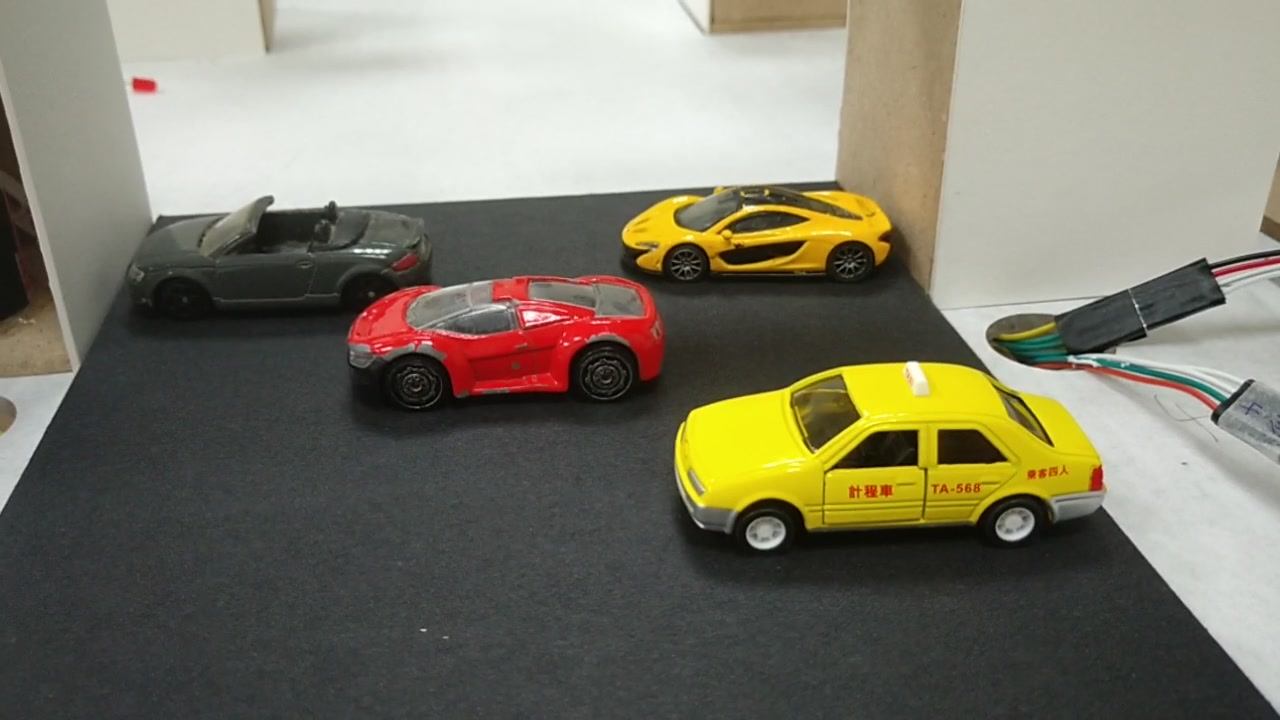car: (669, 365, 1113, 550), (356, 275, 661, 399), (126, 201, 428, 311), (619, 177, 893, 288)
